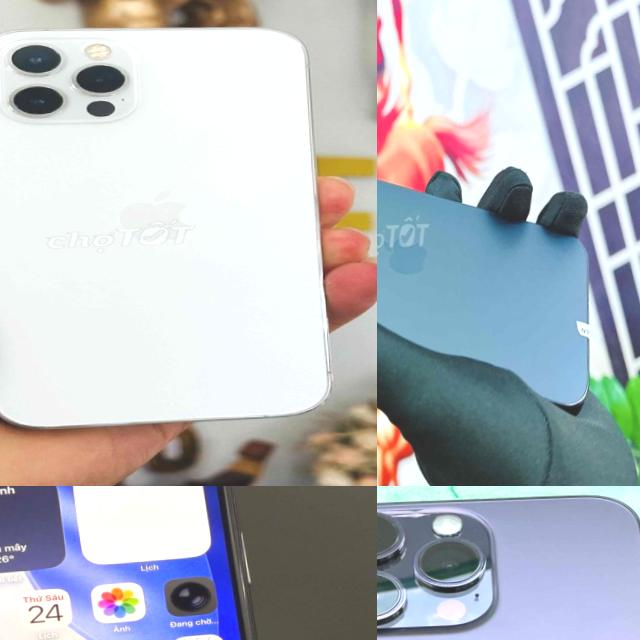gen_11: (0, 486, 304, 640)
gen_12_13: (0, 15, 352, 435)
gen_14: (377, 486, 640, 640)
gen_15: (377, 135, 605, 427)
